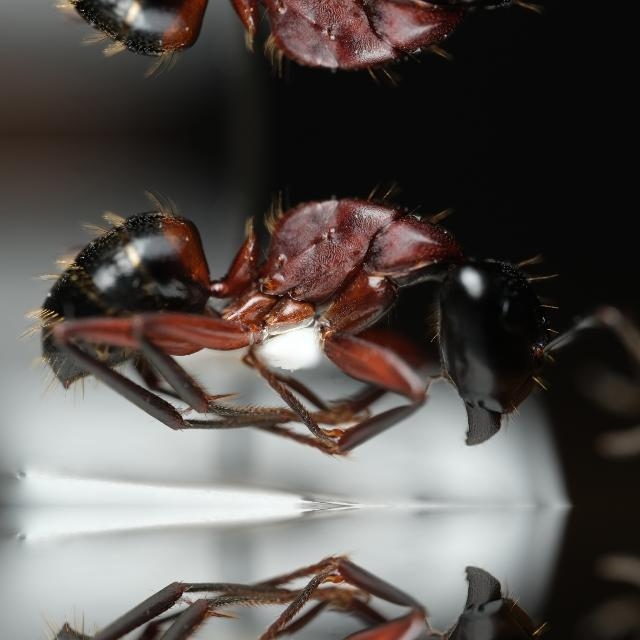Camponotus: (0, 164, 606, 458), (0, 0, 606, 102), (0, 552, 606, 640)
